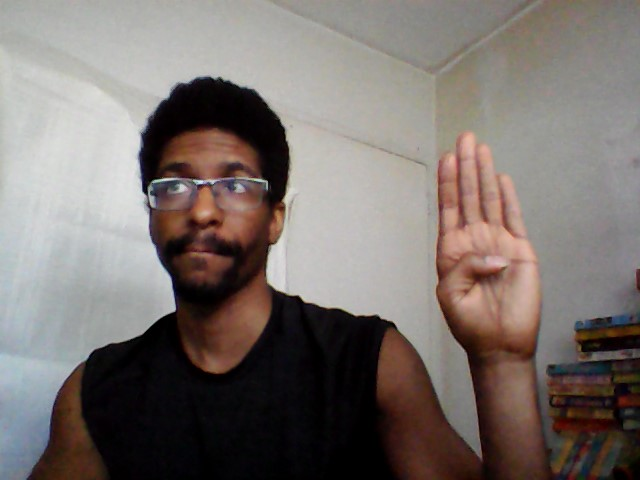b: (431, 126, 544, 356)
